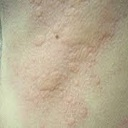Hives: (50, 16, 112, 63)
